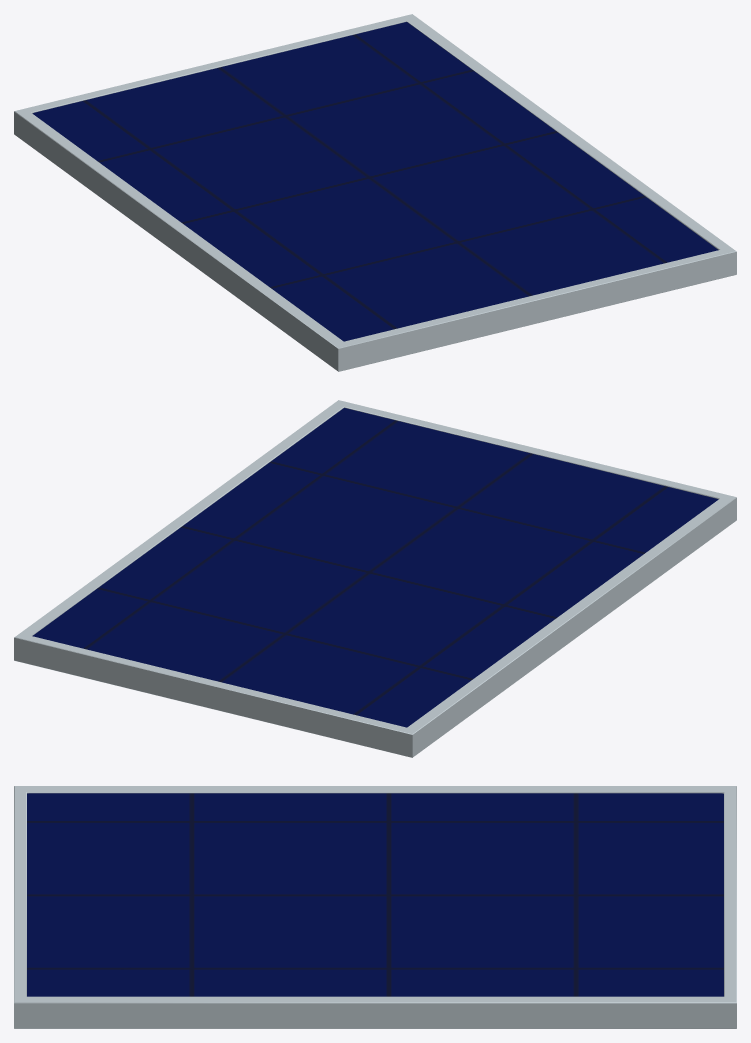
File: Solar_Panel_Piece.fbx
3 views of the same model, one above another, from view 1: azimuth 30°, elevation 25°; view 2: azimuth 150°, elevation 25°; view 3: azimuth 270°, elevation 25° (orthographic). The views are drawn at different scales.
Parts seen in each view (by area): view 1: Solar Panel.001; view 2: Solar Panel.001; view 3: Solar Panel.001.
Part boxes in pixels (x1,y1,x2,y2): Solar Panel.001: [14, 14, 736, 371]; Solar Panel.001: [14, 400, 736, 757]; Solar Panel.001: [14, 786, 736, 1028].
Bounding box in the file's own units: 2.59 × 3.65 × 0.214.
Materials: 1 (1 with a texture image).
